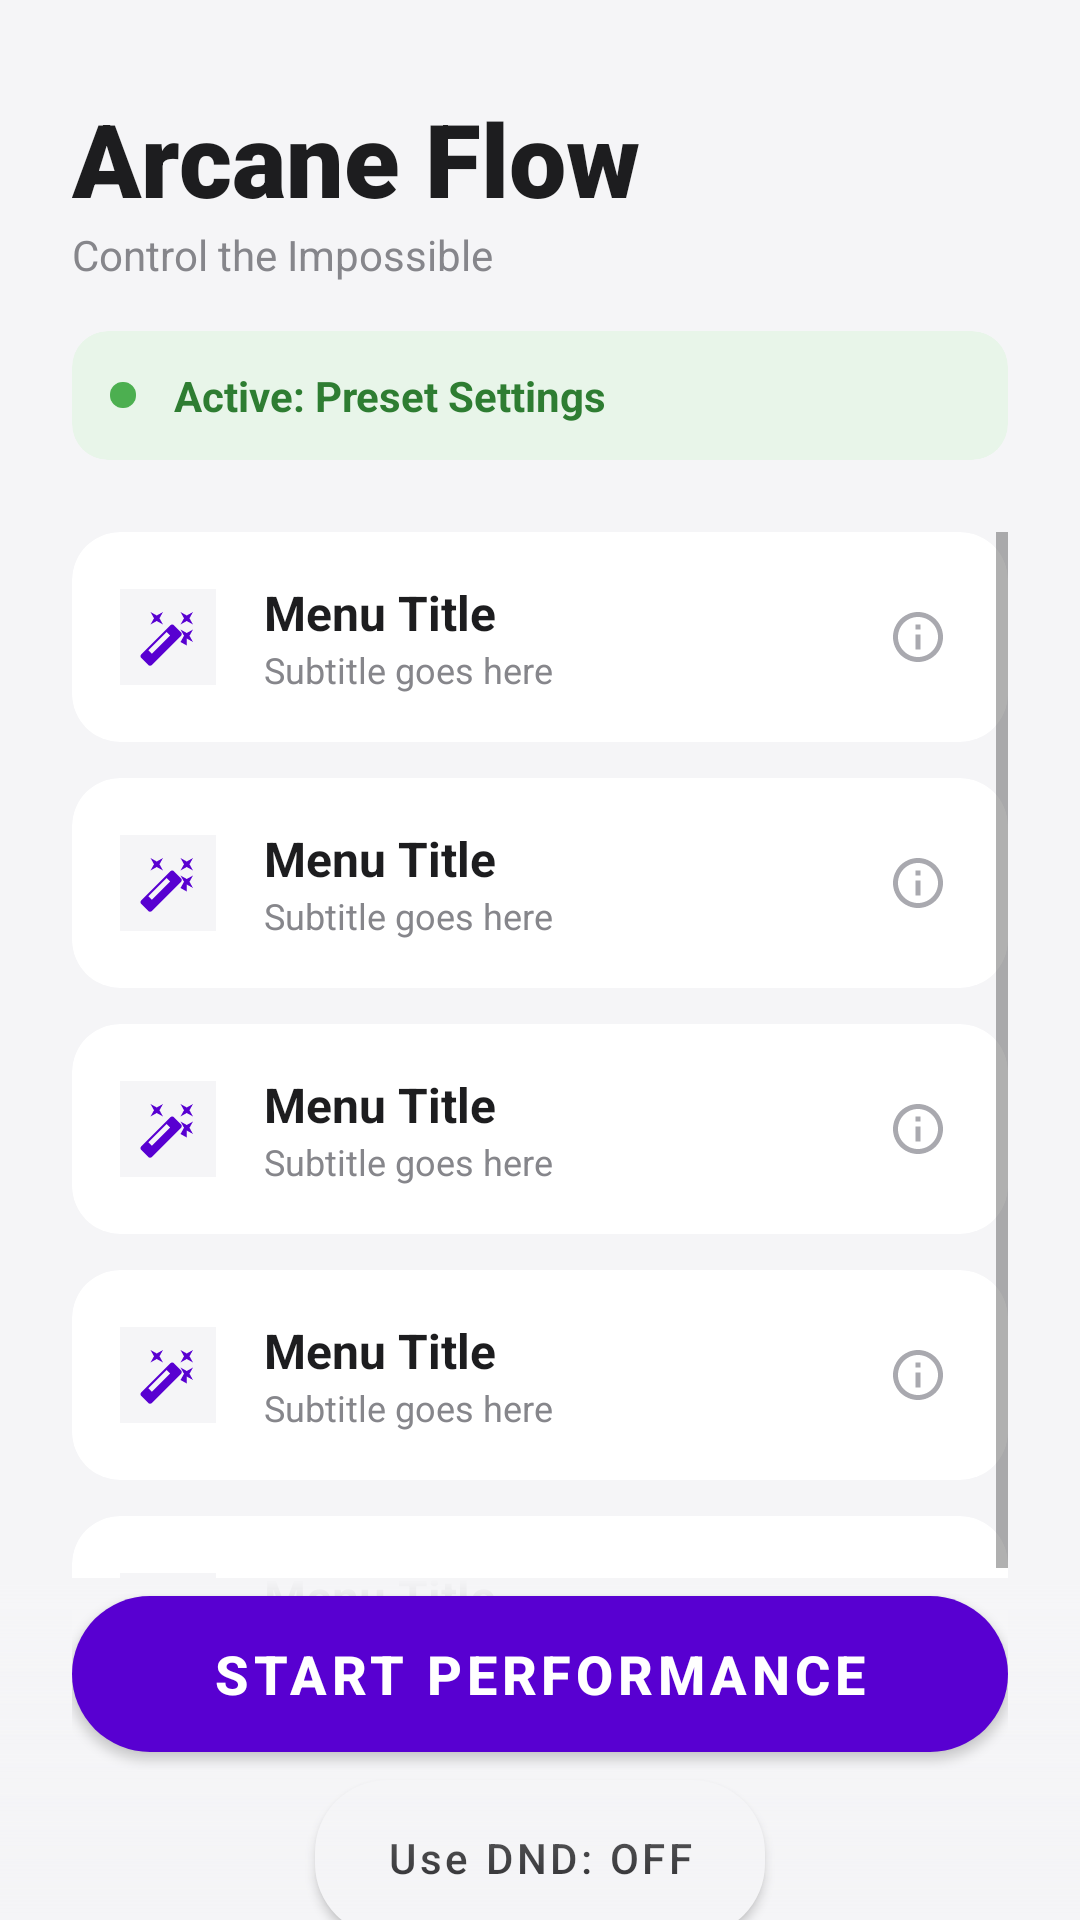

Icons on this 1080×1920 Android screen, each with the point to tap as (x,y):
presence online: (123,395)
